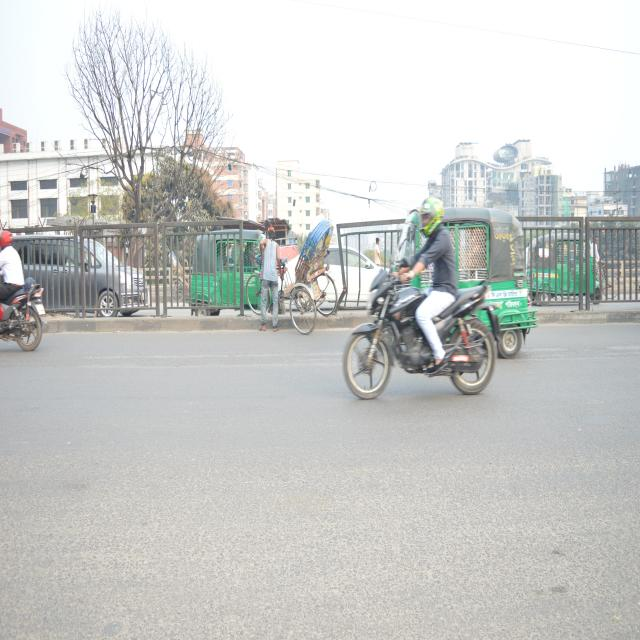car: (278, 246, 390, 308)
microbus: (6, 232, 145, 318)
motorbike: (343, 277, 500, 403), (0, 275, 47, 349)
